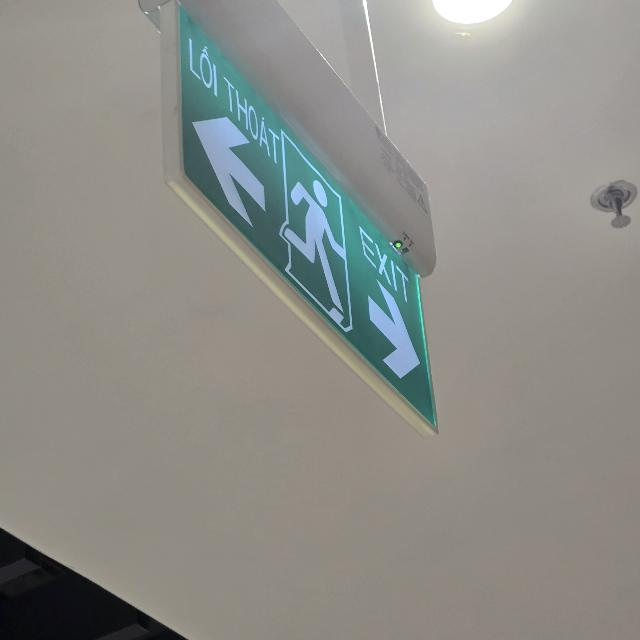exit: (171, 7, 436, 425)
